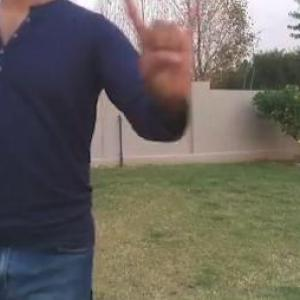takeoff-hand: (117, 0, 209, 102)
